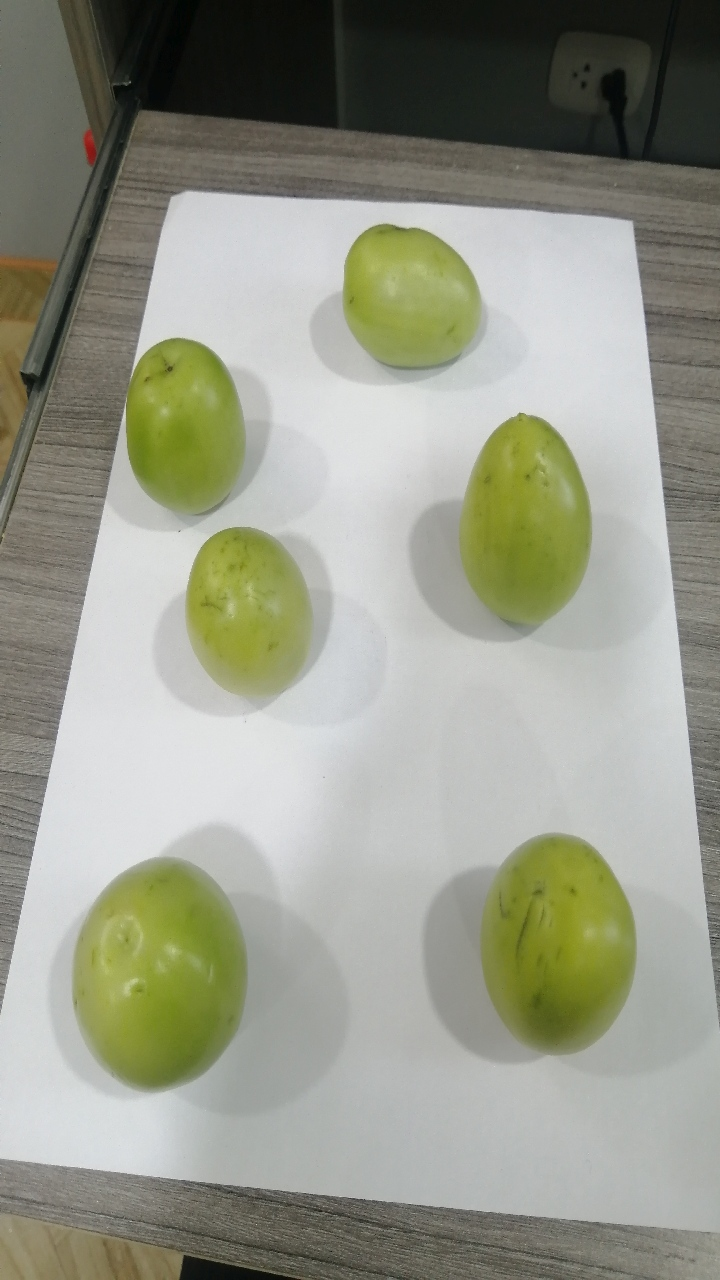tomateVerde: (51, 837, 254, 1114), (461, 817, 664, 1082), (446, 395, 617, 640), (100, 325, 271, 534), (320, 194, 506, 382), (168, 511, 335, 709)
